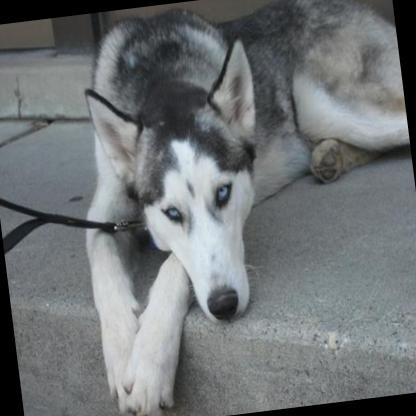Siberian_husky: (57, 0, 416, 416)
